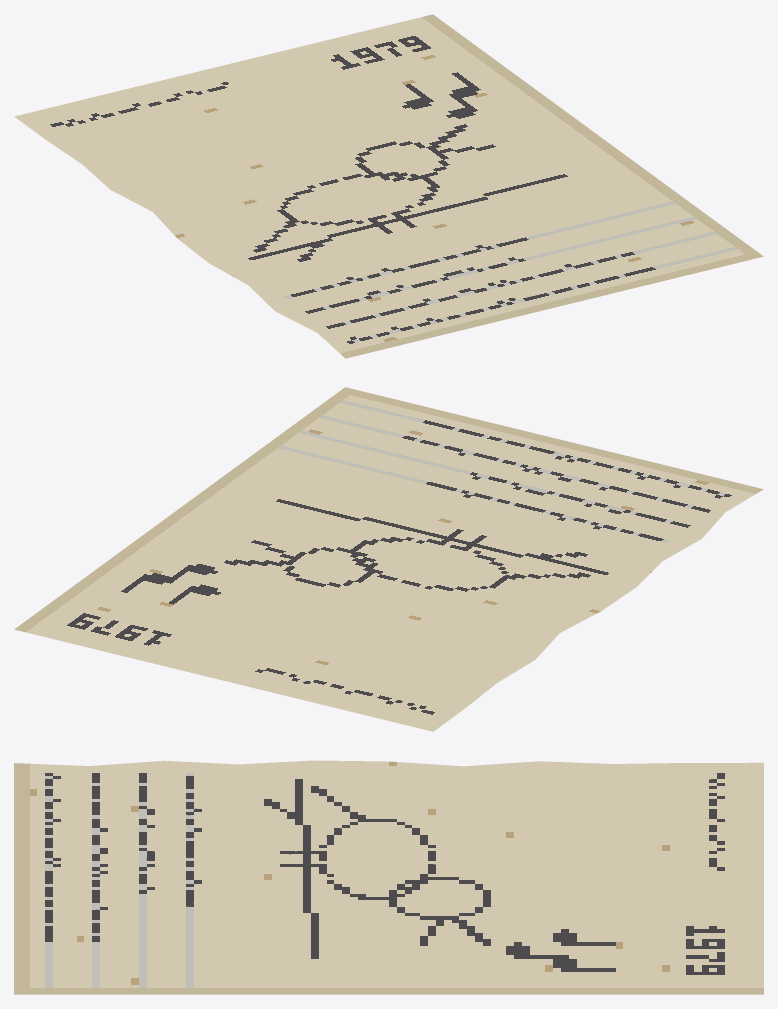
The model's file is m_page_magpie.glb.
3 renders of one model, top to bottom at view 1: azimuth 30°, elevation 25°; view 2: azimuth 150°, elevation 25°; view 3: azimuth 270°, elevation 25°, orthographic. The views are drawn at different scales.
Visible parts, largest first — view 1: Page_magpie; view 2: Page_magpie; view 3: Page_magpie.
Part boxes in pixels (x1,y1,x2,y2): Page_magpie: (14,14,763,358); Page_magpie: (14,387,763,731); Page_magpie: (14,760,763,994).
Size of the model in its own units: 0.1477 by 0 by 0.2.
Materials: 1 (1 with a texture image).
